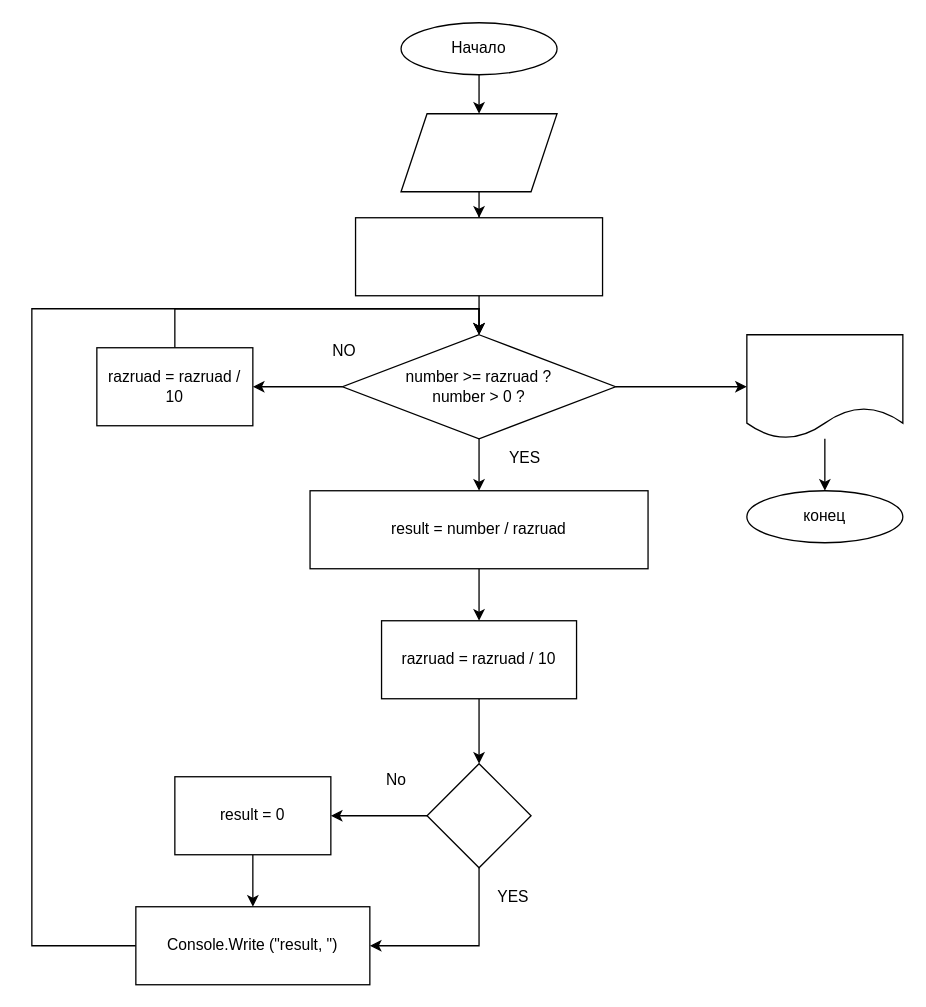
Some shapes in this 926 by 1007 pixel diagram are drawn without their labels. The centre of each missing label's shape, as x and y in pixels:
"number" goes at pixel 478 152.
"result > 0" goes at pixel 478 815.
"result razruad = 1000000000" goes at pixel 478 256.
"вывод в консоль" goes at pixel 824 386.
